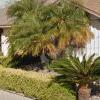Tree: (5, 3, 97, 67)
